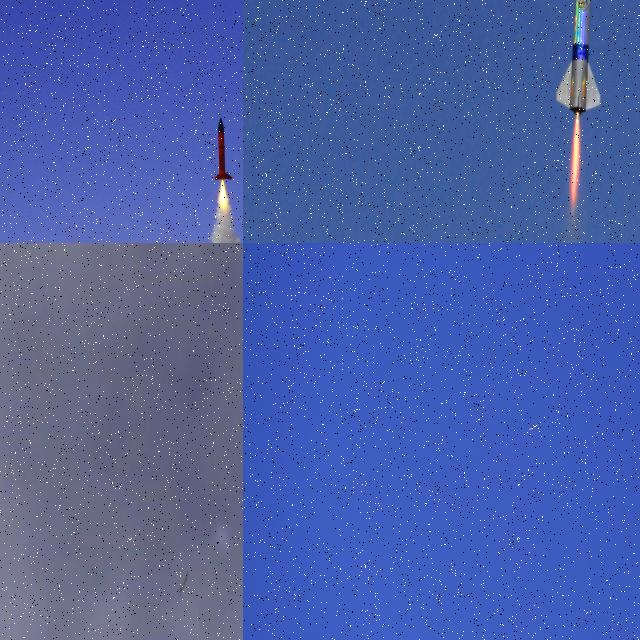Rocket: (555, 0, 602, 115), (214, 118, 233, 180), (531, 423, 540, 430)
